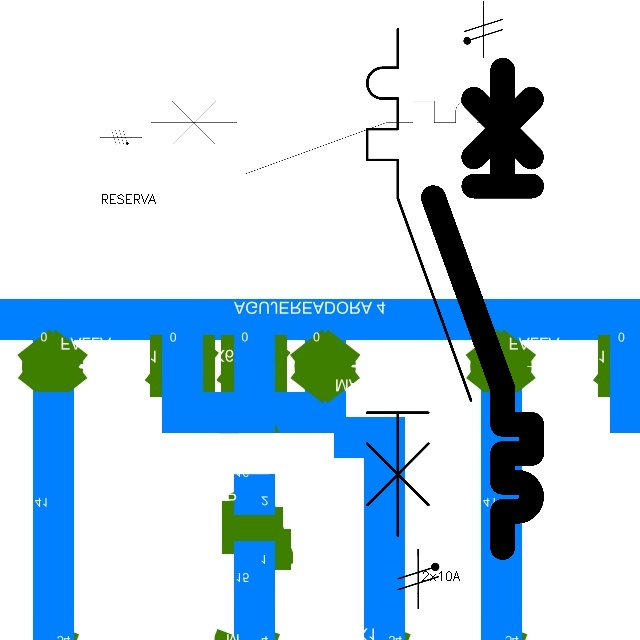interruptor_termomagnetico: (354, 16, 484, 549), (421, 57, 544, 559), (141, 92, 512, 182)
